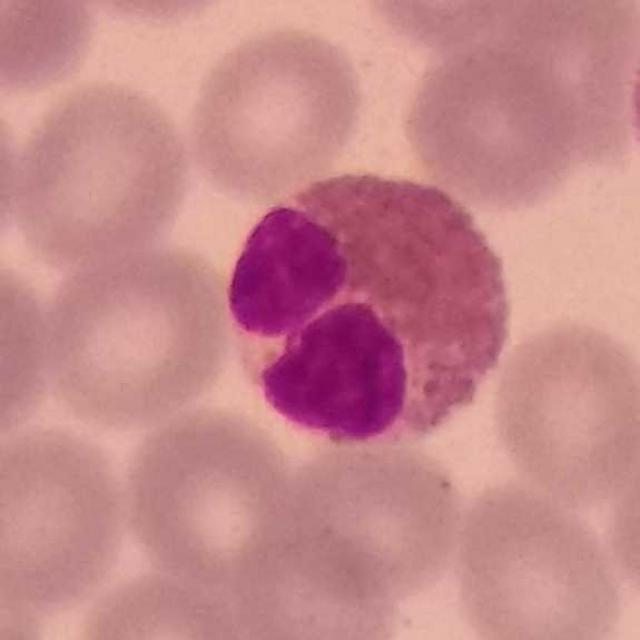Eosinophil: (226, 158, 518, 462)
RBC: (36, 240, 236, 430), (117, 403, 316, 590), (7, 75, 196, 262), (275, 428, 469, 604), (182, 20, 368, 203), (398, 36, 584, 209), (486, 314, 640, 506), (447, 482, 629, 640), (475, 0, 640, 159), (1, 420, 133, 616), (223, 514, 403, 639), (64, 566, 260, 640), (0, 255, 56, 444), (0, 0, 102, 97), (595, 408, 640, 612), (349, 0, 536, 48), (59, 0, 248, 30), (0, 542, 53, 639), (0, 87, 26, 273), (621, 1, 640, 205)
